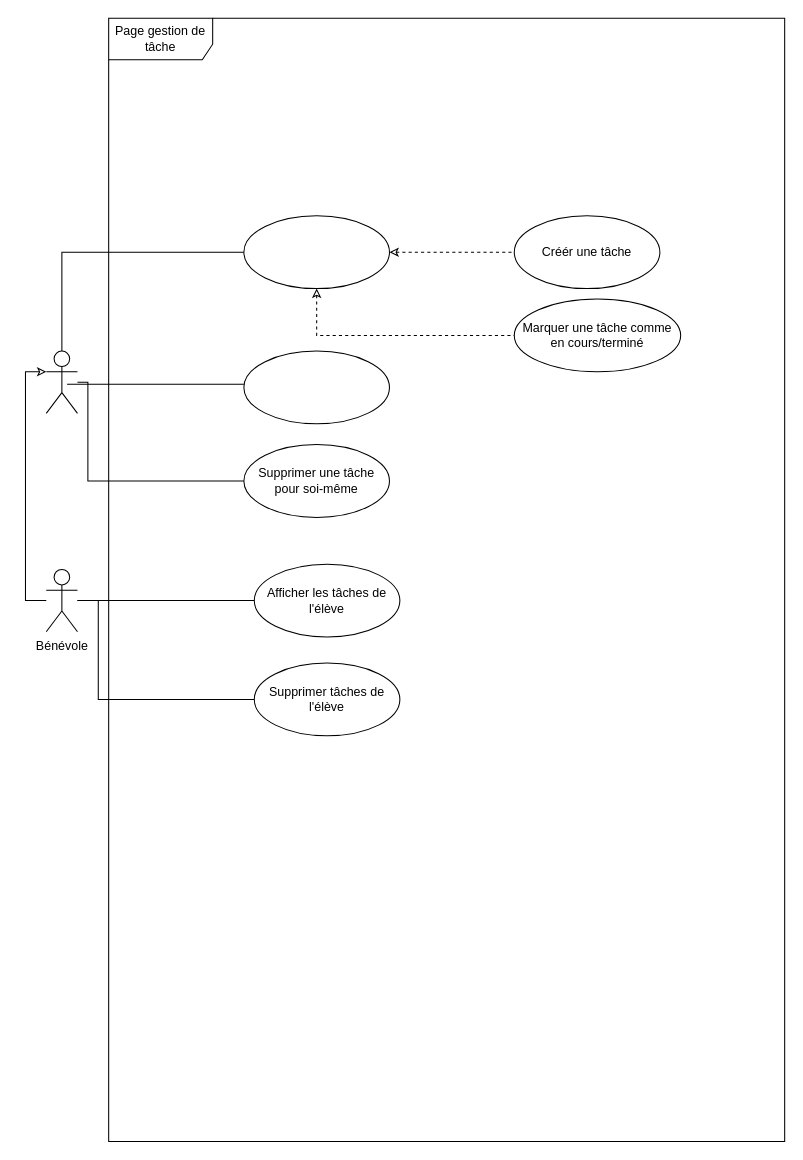
Some shapes in this 803 by 1160 pixel diagram are drawn without their labels. Here are the shapes that lost their labels. From the top down, the box of each, then its label:
(243, 215, 389, 289): Affichers mes tâches
(45, 350, 77, 413): Elève
(243, 350, 389, 424): Ajouter une tâche pour soi-même
